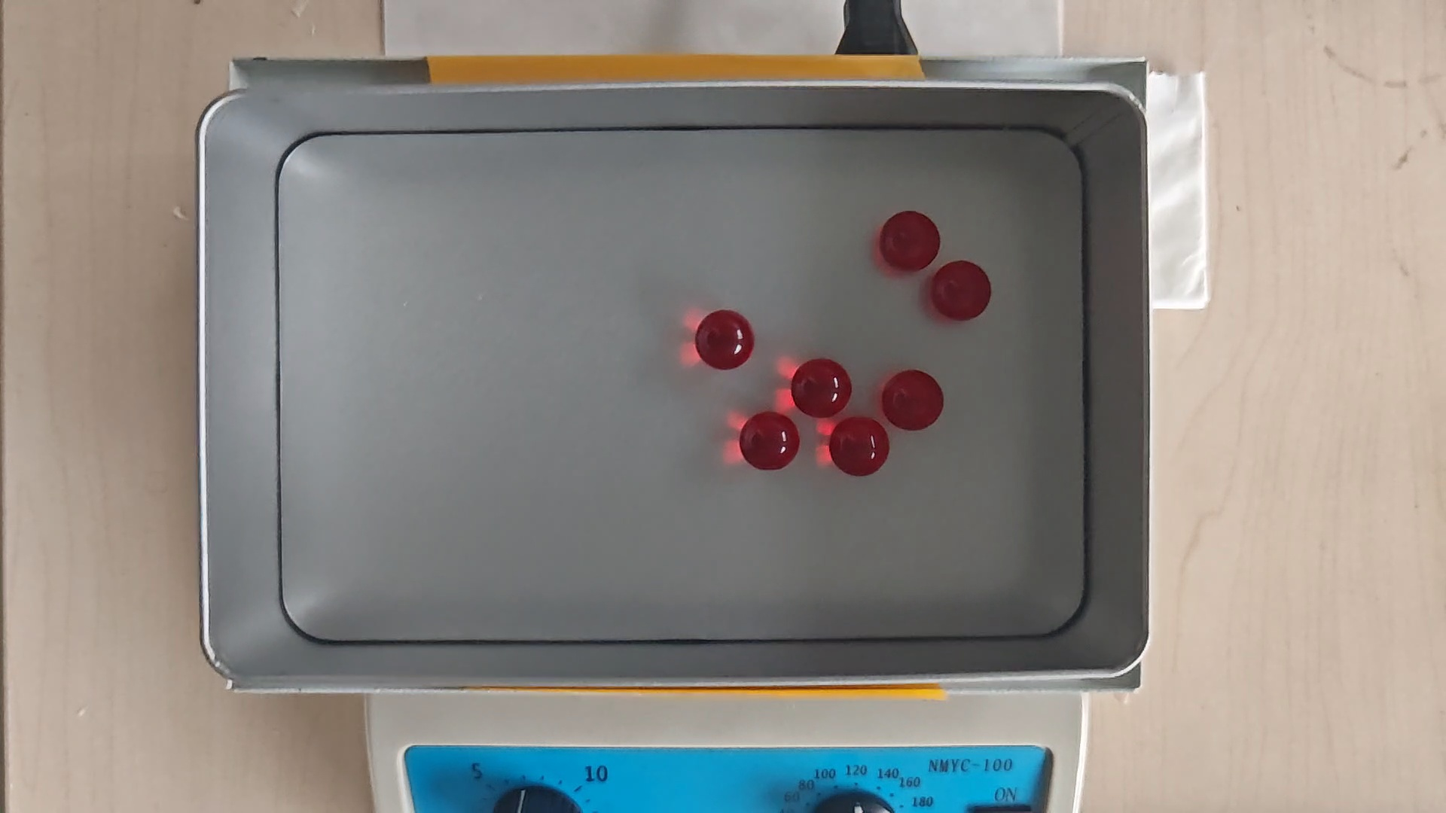ball: (928, 260, 990, 322), (883, 369, 943, 432), (694, 309, 755, 368), (828, 418, 890, 476), (881, 210, 938, 272), (792, 357, 850, 417), (740, 412, 801, 469)
container: (277, 129, 1079, 641)
